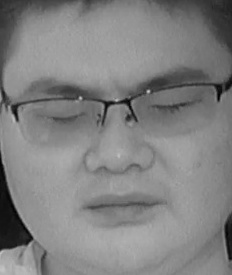blink: (150, 99, 188, 116), (49, 109, 87, 125)
glass: (125, 84, 219, 135), (13, 95, 106, 143)
mouth: (78, 187, 158, 227)
